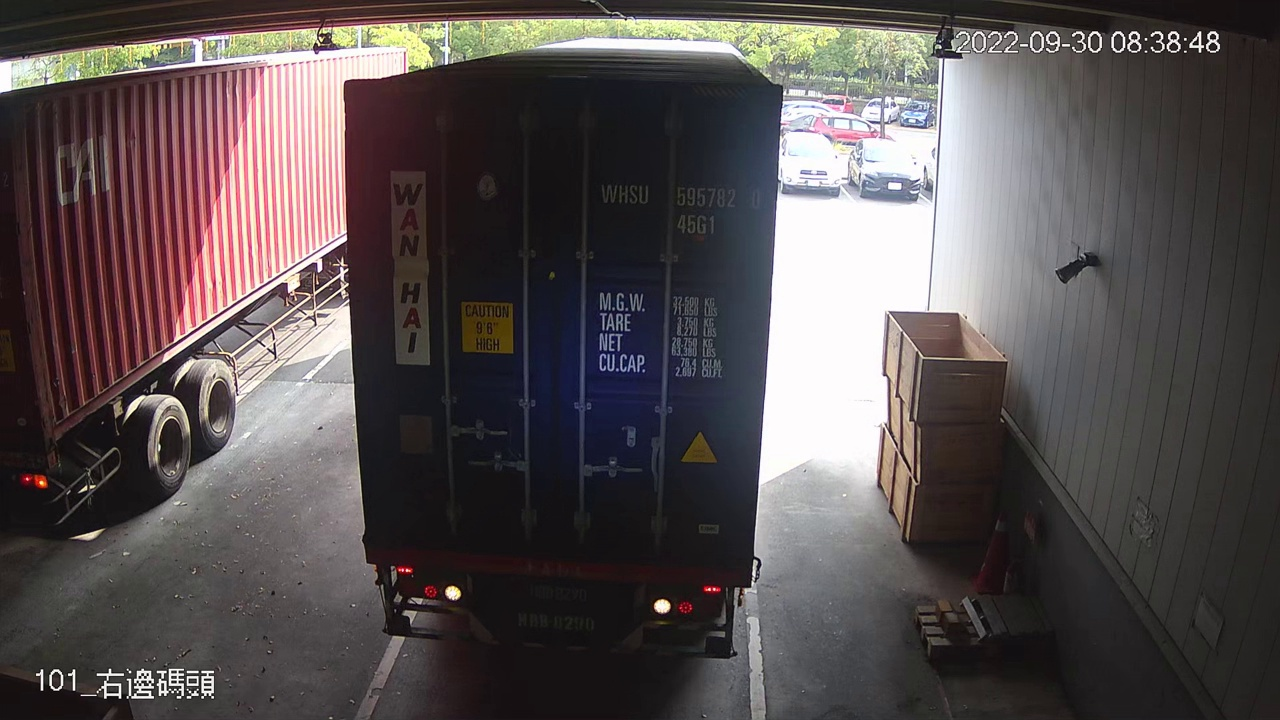container: (594, 173, 769, 242)
